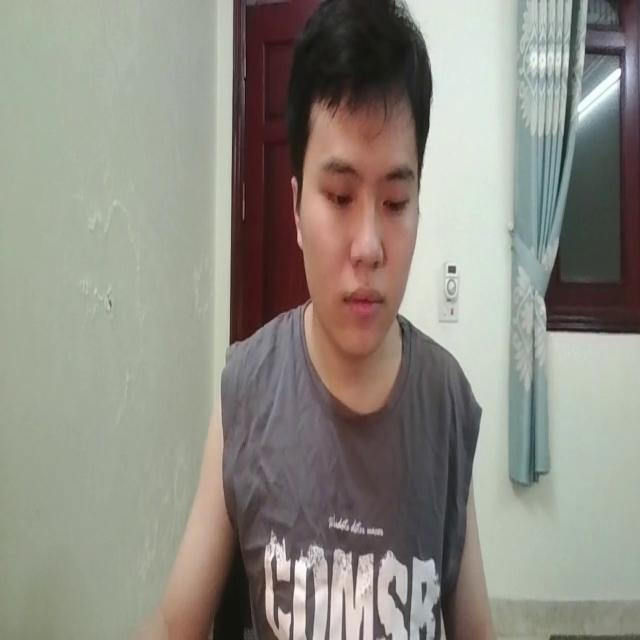student: (166, 0, 485, 640)
